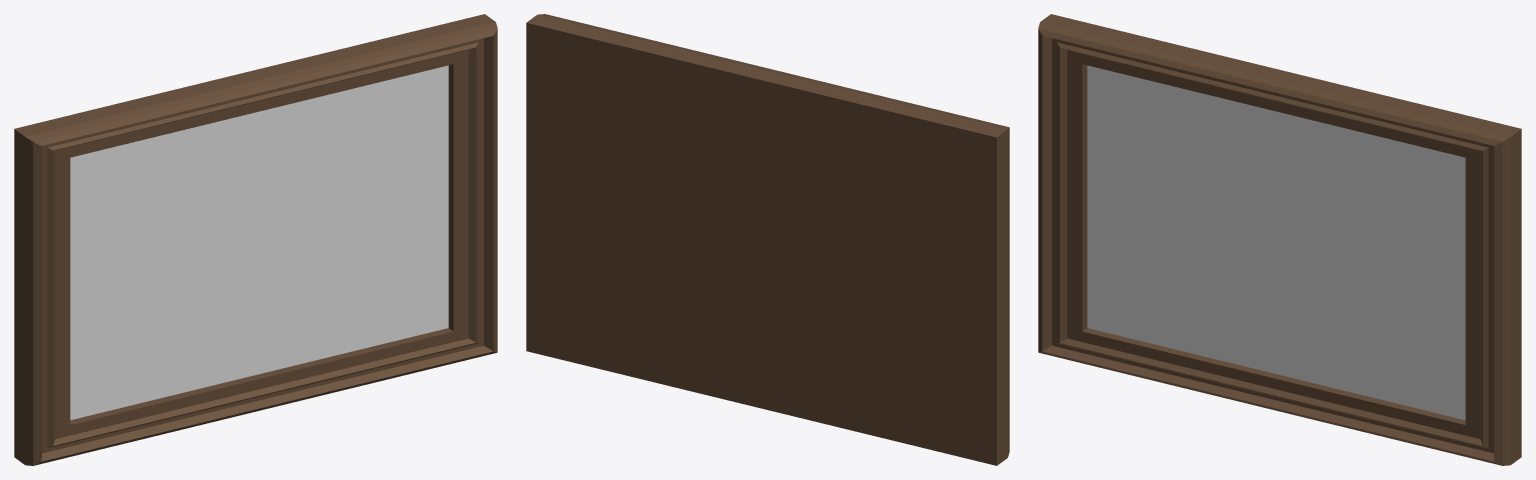
Rendered from bilderrahmen.fbx.
3 renders of one model, left to right at view 1: azimuth 30°, elevation 25°; view 2: azimuth 150°, elevation 25°; view 3: azimuth 330°, elevation 25°, orthographic.
Parts seen in each view (by area): view 1: Bilderrahmen; view 2: Bilderrahmen; view 3: Bilderrahmen.
Boxes of the visible parts, x1=… form: Bilderrahmen: x1=14, y1=14, x2=497, y2=465; Bilderrahmen: x1=526, y1=14, x2=1009, y2=465; Bilderrahmen: x1=1038, y1=14, x2=1521, y2=465.
Size of the model in its own units: 90 by 60 by 5.96.
